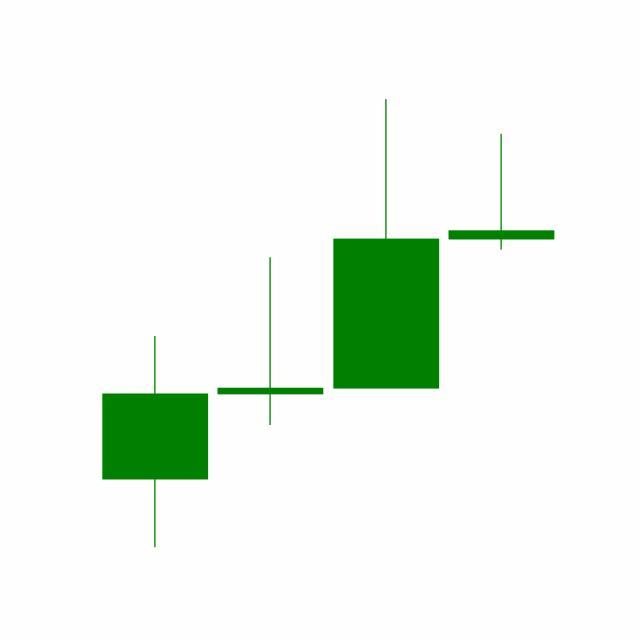Gravestone Doji: (444, 132, 560, 252)
